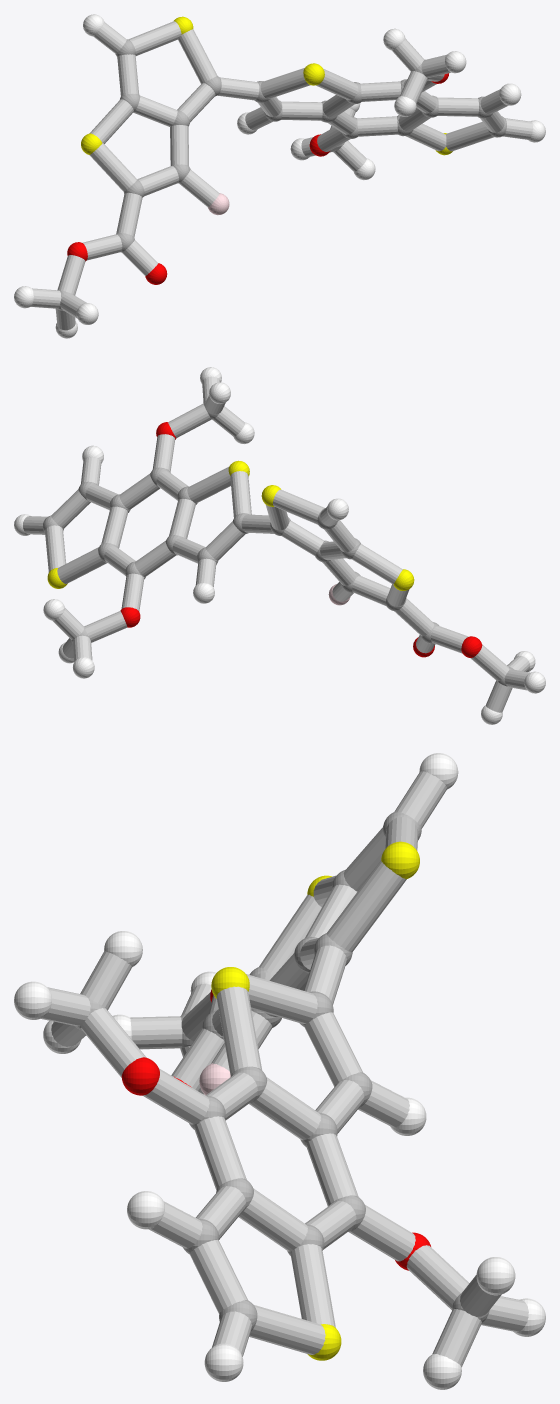
The model's file is color.glb.
3 renders of one model, top to bottom at view 1: azimuth 30°, elevation 25°; view 2: azimuth 150°, elevation 25°; view 3: azimuth 270°, elevation 25°, orthographic. The views are drawn at different scales.
Visible parts, largest first — view 1: grp15205, grp8689, grp1, grp7241, grp13395; view 2: grp15205, grp8689, grp1, grp7241, grp13395; view 3: grp15205, grp8689, grp1, grp7241, grp13395.
Boxes of the visible parts, x1=… form: grp15205: x1=31, y1=21, x2=532, y2=330; grp8689: x1=14, y1=14, x2=545, y2=338; grp1: x1=58, y1=39, x2=506, y2=310; grp7241: x1=81, y1=16, x2=452, y2=155; grp13395: x1=67, y1=73, x2=448, y2=284; grp15205: x1=23, y1=376, x2=530, y2=712; grp8689: x1=14, y1=367, x2=545, y2=724; grp1: x1=43, y1=400, x2=513, y2=686; grp7241: x1=47, y1=460, x2=414, y2=590; grp13395: x1=120, y1=422, x2=482, y2=657; grp15205: x1=41, y1=771, x2=528, y2=1366; grp8689: x1=14, y1=753, x2=545, y2=1389; grp1: x1=75, y1=811, x2=489, y2=1330; grp7241: x1=211, y1=841, x2=419, y2=1360; grp13395: x1=121, y1=989, x2=430, y2=1270.
Bounding box in the file's own units: 16.57 × 7.52 × 8.21.
